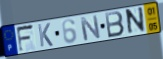6: (61, 18, 79, 45)
B: (104, 10, 126, 39)
F: (15, 23, 36, 54)
K: (37, 22, 55, 48)
N: (126, 6, 147, 37), (79, 14, 102, 42)
